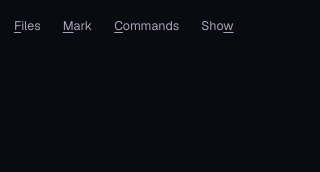
Test: MenuBar › runs clicked enabled item once, closes menu, and restores opener focus
What coordinates should you click on to do the following:
click the menu item "Mark"
I would click on:
 (77, 26)
Its box is [53,12,102,40].
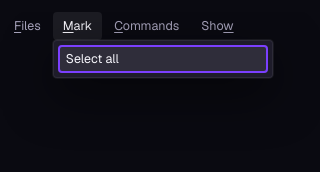
What coordinates should you click on to do the following:
click the menu item "Select all"
I would click on:
 (163, 59)
Its box is [58,45,268,73].
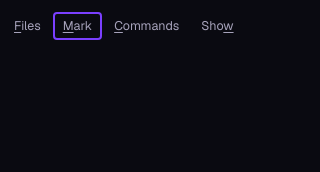
Check: the menu is gone
